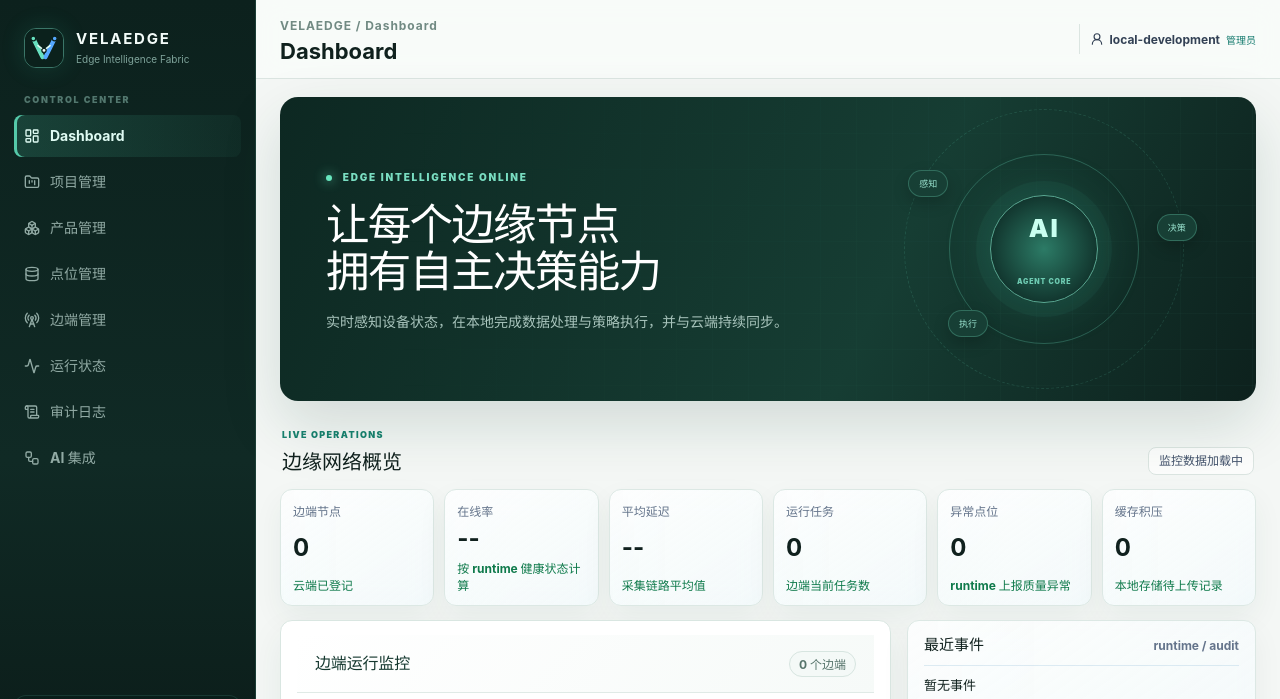
Test case: App cloud console write actions › opens selected edge runtime monitoring from the edge management row
Click the button "边端管理". click: (128, 320)
box: left=14, top=299, right=241, bottom=341
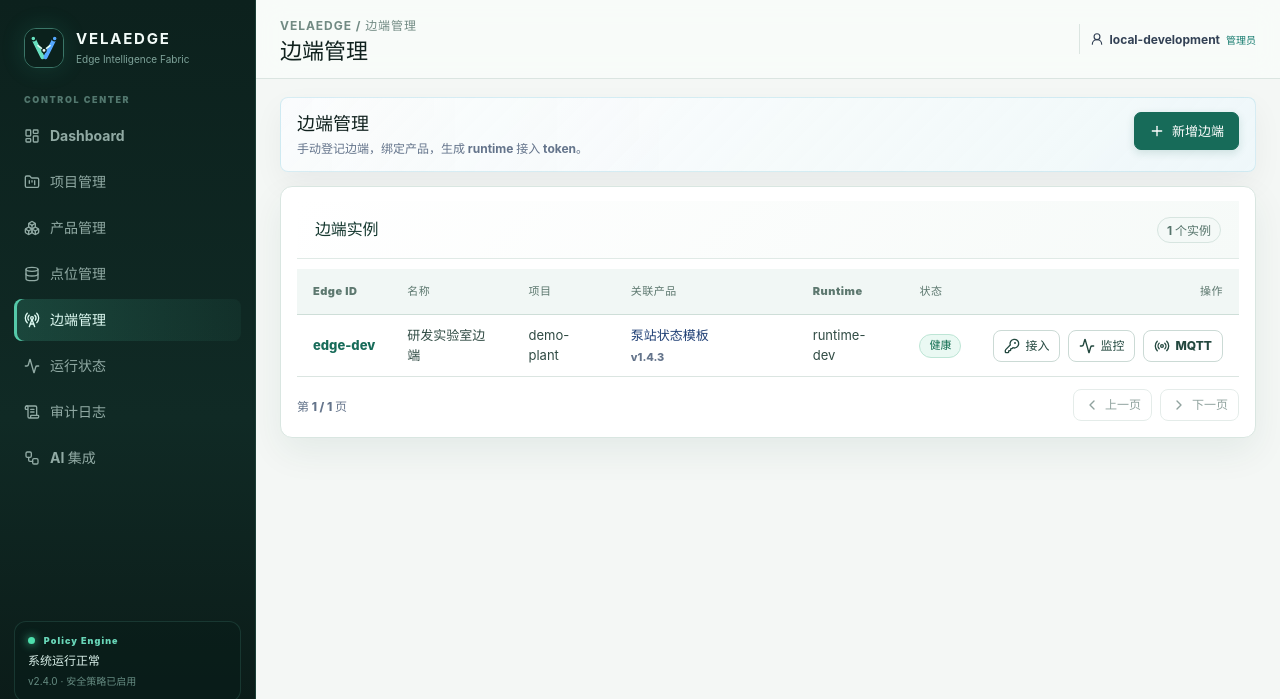
Expected: the text "研发实验室边端" is shown, left=391, top=315, right=512, bottom=376
Click the button with aria-label "运行监控 edge-dev". click: (1102, 346)
box: left=1068, top=330, right=1135, bottom=362
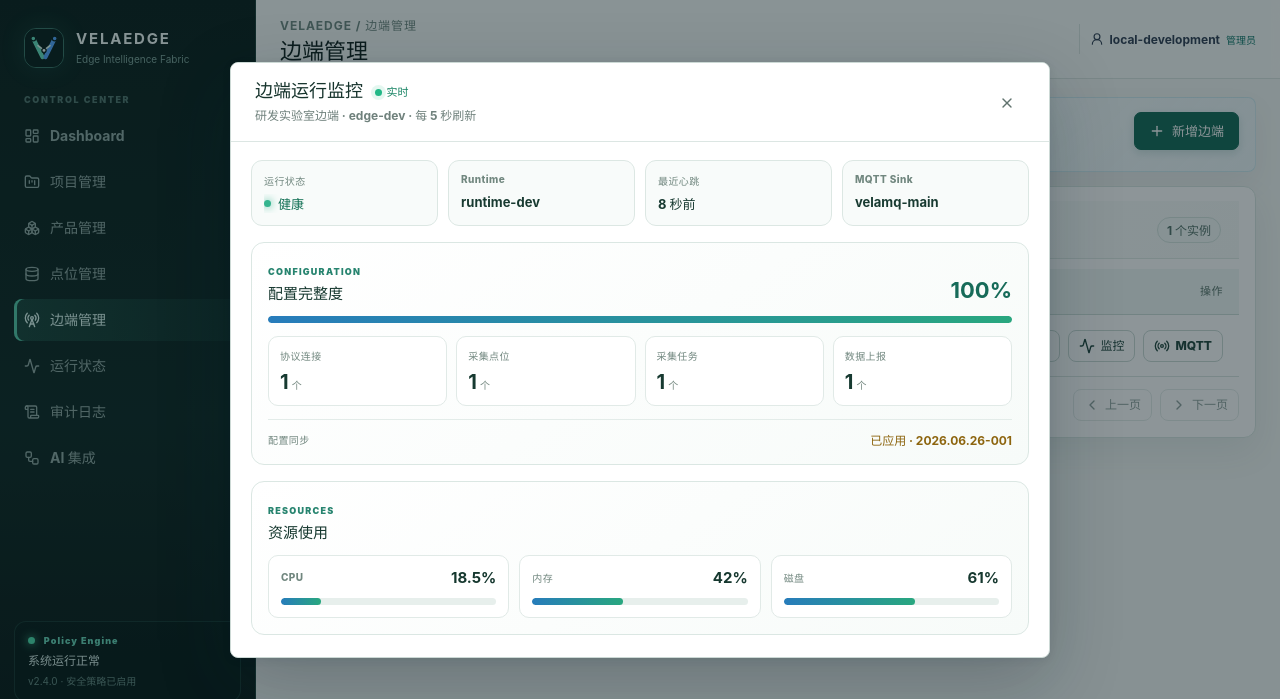
Expected: the text "runtime-dev" is shown, left=461, top=194, right=540, bottom=210
Expected: the text "18.5%" is shown, left=451, top=568, right=496, bottom=586
